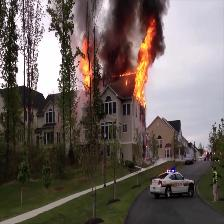fire: (134, 25, 151, 102), (80, 39, 93, 87)
smoke: (105, 0, 132, 72), (139, 0, 161, 23)
